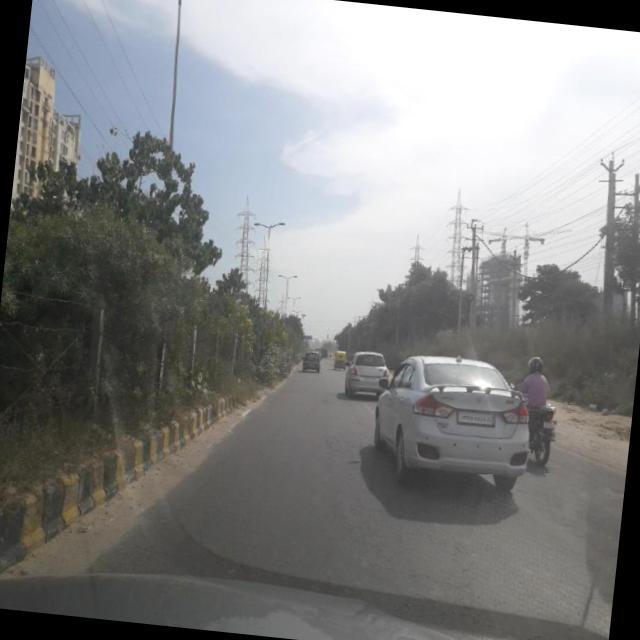crack: (127, 434, 609, 640)
